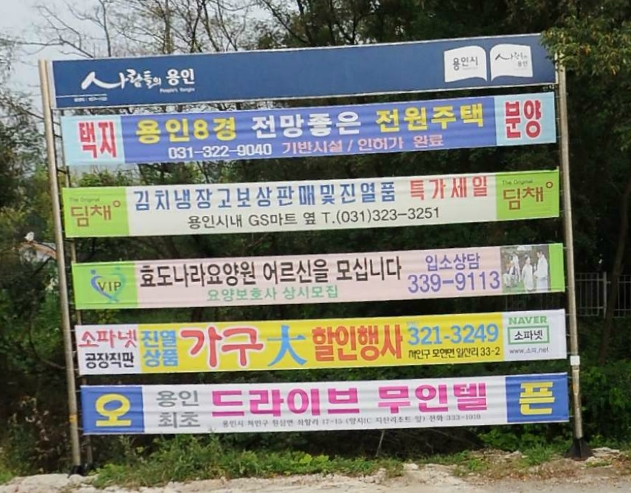banner: (57, 160, 581, 245), (60, 237, 576, 323), (43, 87, 568, 164), (66, 367, 583, 444), (61, 305, 577, 382)
